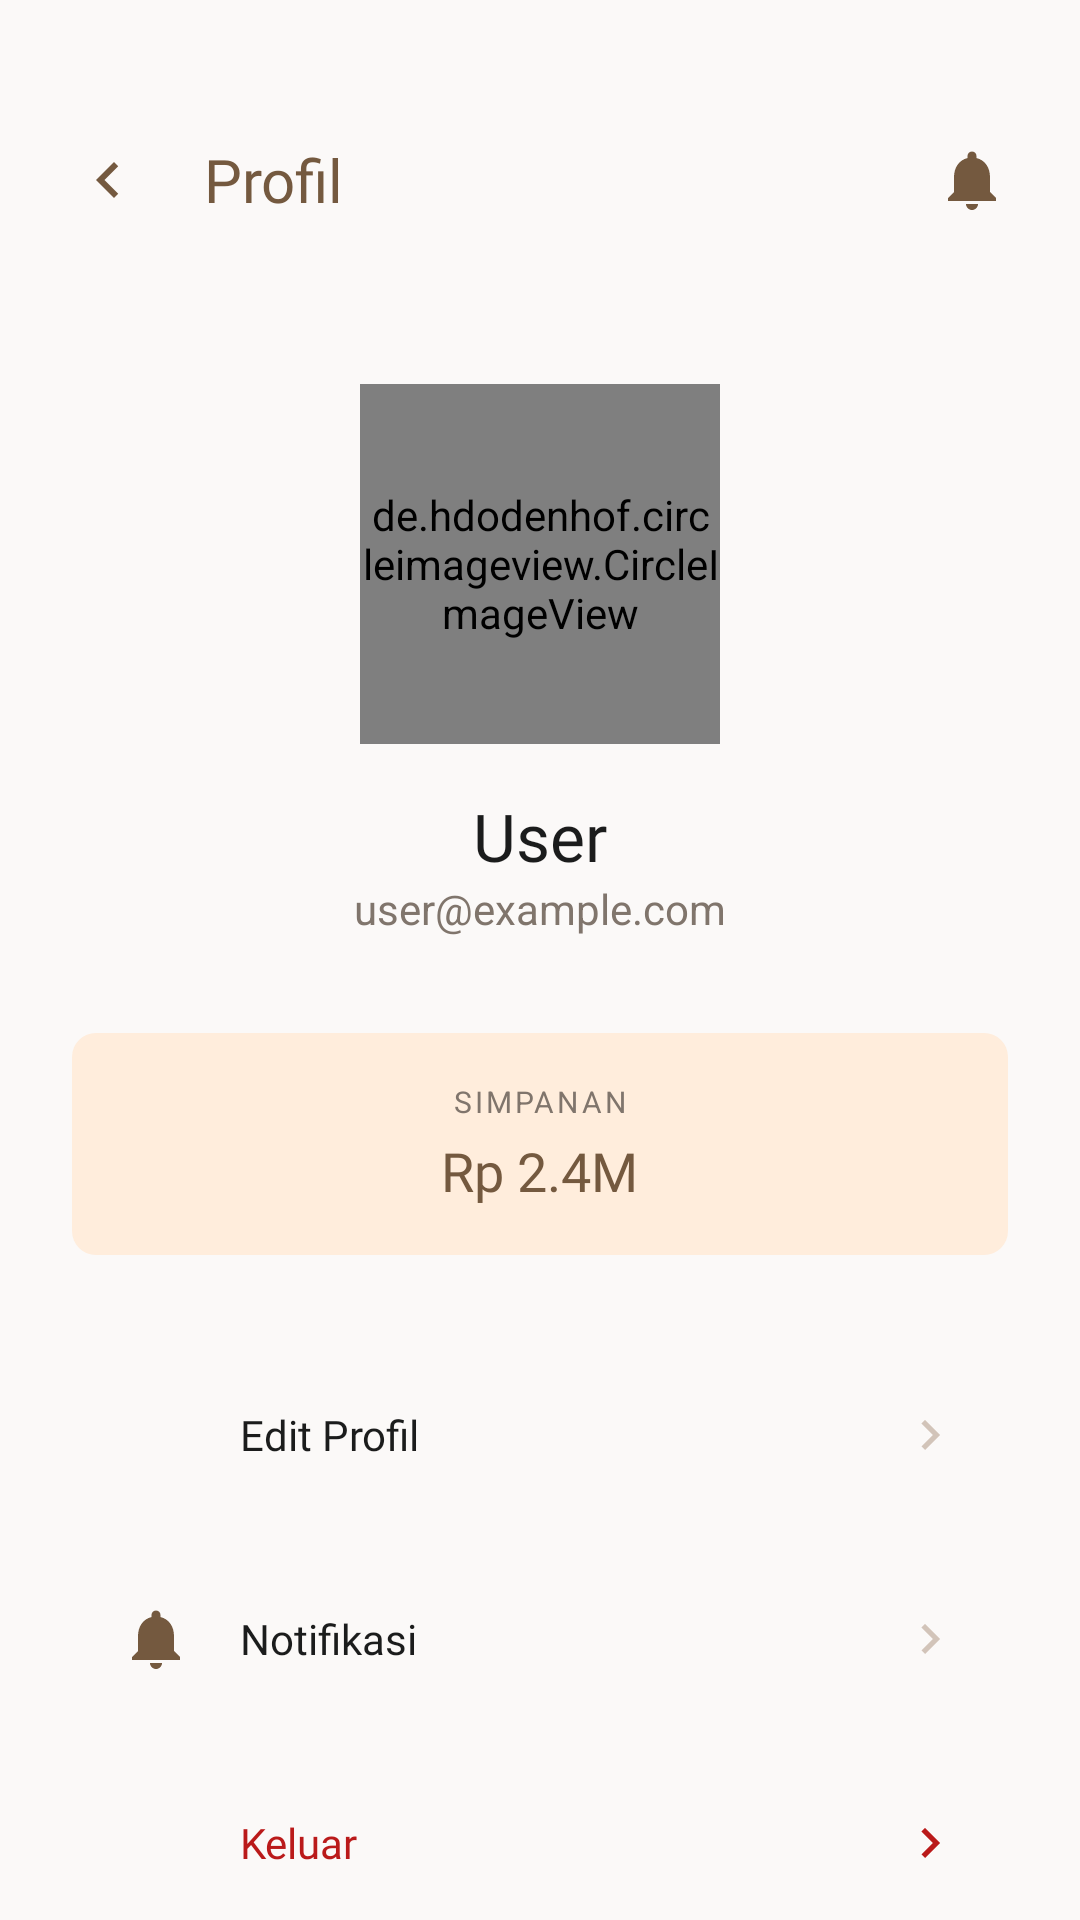

Point at icon controls on the screen. Image size 1080 × 1920, points as point (x, y).
arrow left: point (107, 180)
arrow right: point (931, 1435), point (931, 1639), point (930, 1843)
notification: point (972, 180), point (156, 1639)
